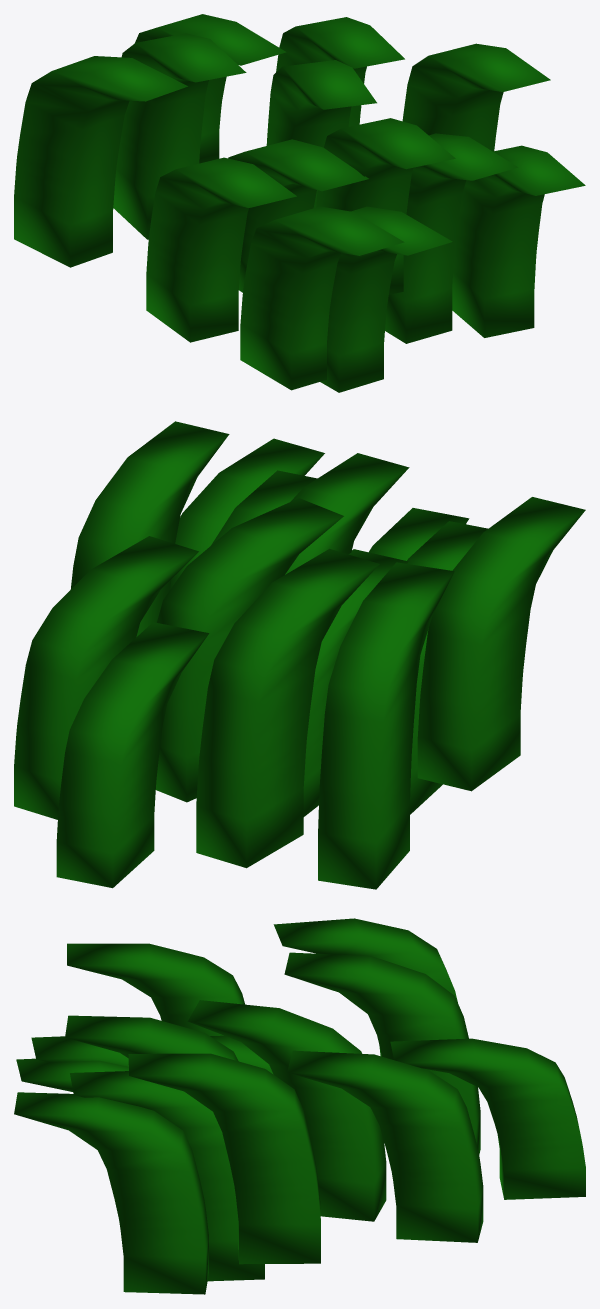
File: Grass.fbx
3 views of the same model, one above another, from view 1: azimuth 30°, elevation 25°; view 2: azimuth 150°, elevation 25°; view 3: azimuth 270°, elevation 25° (orthographic). The views are drawn at different scales.
Parts seen in each view (by area): view 1: Cube.001; view 2: Cube.001; view 3: Cube.001.
Boxes of the visible parts, box(x1,y1,x2,y2) form: Cube.001: box(14, 14, 585, 392); Cube.001: box(14, 421, 585, 889); Cube.001: box(14, 918, 585, 1294).
Bounding box in the file's own units: 2.31 × 1.6 × 3.41.
